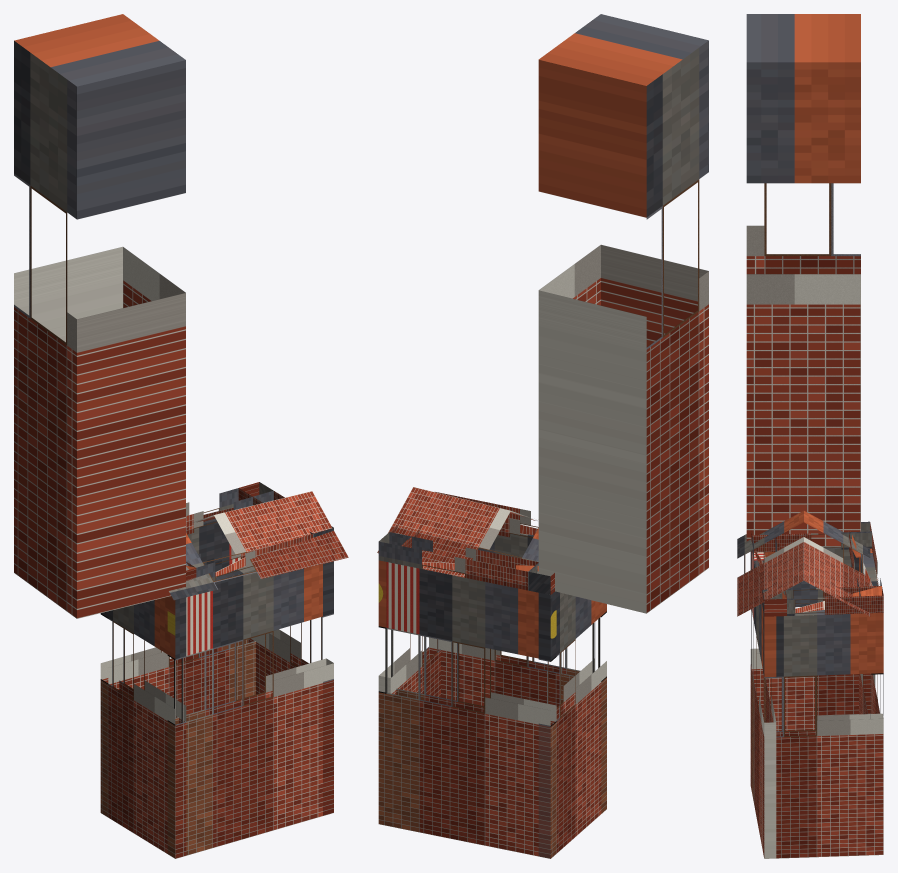
3 renders of one model, left to right at view 1: azimuth 30°, elevation 25°; view 2: azimuth 150°, elevation 25°; view 3: azimuth 270°, elevation 25°, orthographic. The views are drawn at different scales.
Visible parts, largest first — view 1: 717958882__chimney_0_xb, 717958882__wall_0_xb, 717958882__wall_3_xb, 717958882__wall_2_xb, 717958882_roof_-1_xb, 717958882__wall_1_xb, 717958882__cornice_2, 717958882__cornice_0; view 2: 717958882__chimney_0_xb, 717958882__wall_2_xb, 717958882__wall_3_xb, 717958882__wall_0_xb, 717958882_roof_1_xb, 717958882__cornice_2, 717958882__wall_1_xb, 717958882__cornice_0; view 3: 717958882__chimney_0_xb, 717958882__wall_1_xb, 717958882__wall_3_xb, 717958882__wall_0_xb, 717958882_roof_-1_xb, 717958882_roof_1_xb, 717958882__cornice_1, 717958882__cornice_3, 717958882__wall_2_xb, 717958882__cornice_0, 717958882__cornice_2.
Boxes of the visible parts, x1=… form: 717958882__chimney_0_xb: x1=14, y1=14, x2=185, y2=618; 717958882__wall_0_xb: x1=167, y1=564, x2=333, y2=858; 717958882__wall_3_xb: x1=101, y1=596, x2=186, y2=858; 717958882__wall_2_xb: x1=100, y1=518, x2=255, y2=817; 717958882_roof_-1_xb: x1=169, y1=491, x2=348, y2=600; 717958882__wall_1_xb: x1=248, y1=561, x2=333, y2=815; 717958882__cornice_2: x1=186, y1=482, x2=273, y2=534; 717958882__cornice_0: x1=196, y1=534, x2=313, y2=581; 717958882__chimney_0_xb: x1=538, y1=14, x2=708, y2=613; 717958882__wall_2_xb: x1=378, y1=562, x2=556, y2=858; 717958882__wall_3_xb: x1=538, y1=591, x2=606, y2=858; 717958882__wall_0_xb: x1=429, y1=533, x2=606, y2=813; 717958882_roof_1_xb: x1=377, y1=487, x2=555, y2=594; 717958882__cornice_2: x1=378, y1=532, x2=554, y2=594; 717958882__wall_1_xb: x1=378, y1=560, x2=440, y2=697; 717958882__cornice_0: x1=435, y1=492, x2=538, y2=537; 717958882__chimney_0_xb: x1=746, y1=14, x2=860, y2=546; 717958882__wall_1_xb: x1=763, y1=610, x2=883, y2=858; 717958882__wall_3_xb: x1=750, y1=546, x2=870, y2=789; 717958882__wall_0_xb: x1=751, y1=551, x2=776, y2=858; 717958882_roof_-1_xb: x1=737, y1=510, x2=803, y2=616; 717958882_roof_1_xb: x1=804, y1=511, x2=870, y2=616; 717958882__cornice_1: x1=762, y1=586, x2=883, y2=615; 717958882__cornice_3: x1=751, y1=521, x2=871, y2=552; 717958882__wall_2_xb: x1=859, y1=548, x2=883, y2=715; 717958882__cornice_0: x1=752, y1=536, x2=786, y2=616; 717958882__cornice_2: x1=848, y1=522, x2=881, y2=596.
Bounding box in the file's own units: 0.3672 × 1.05 × 0.1918.
Materials: 1 (1 with a texture image).
